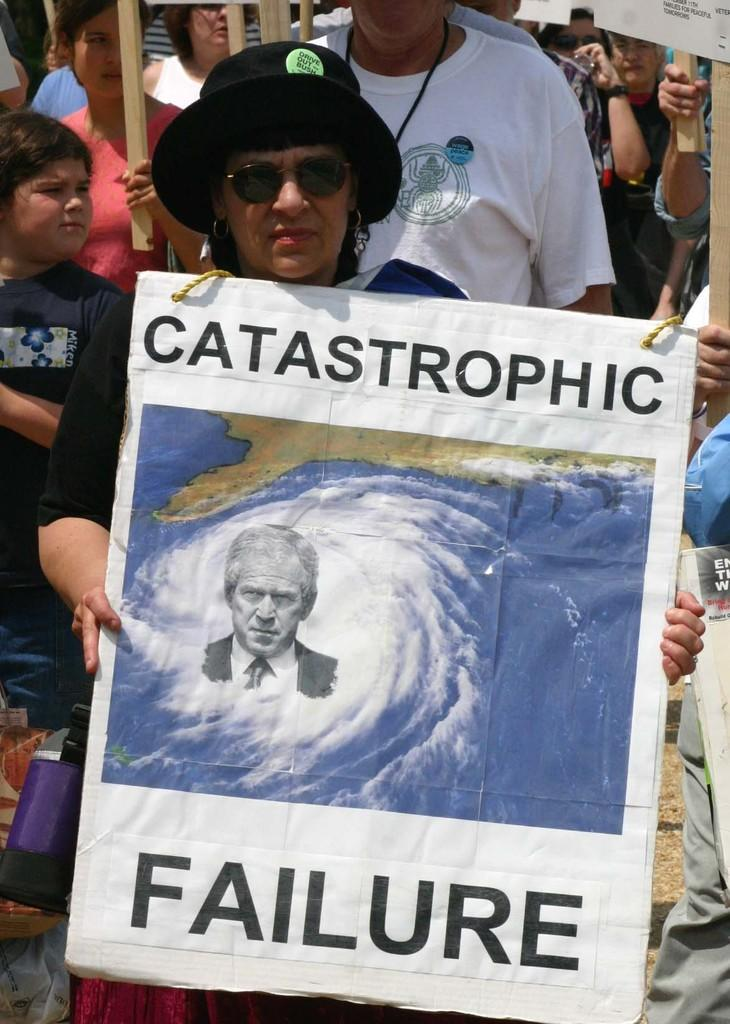Hat: (147, 36, 403, 230)
